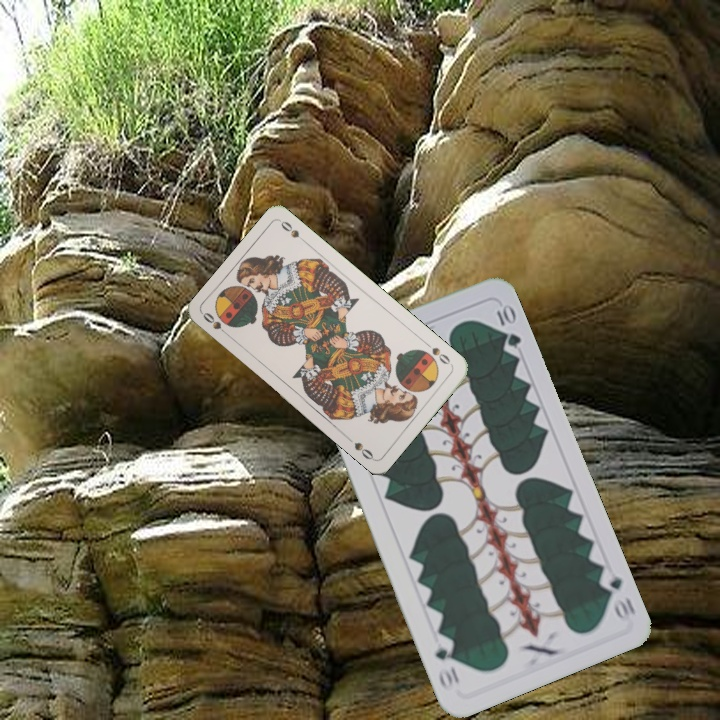G10: (595, 565, 639, 625)
SO: (199, 308, 233, 340), (421, 338, 453, 367)
